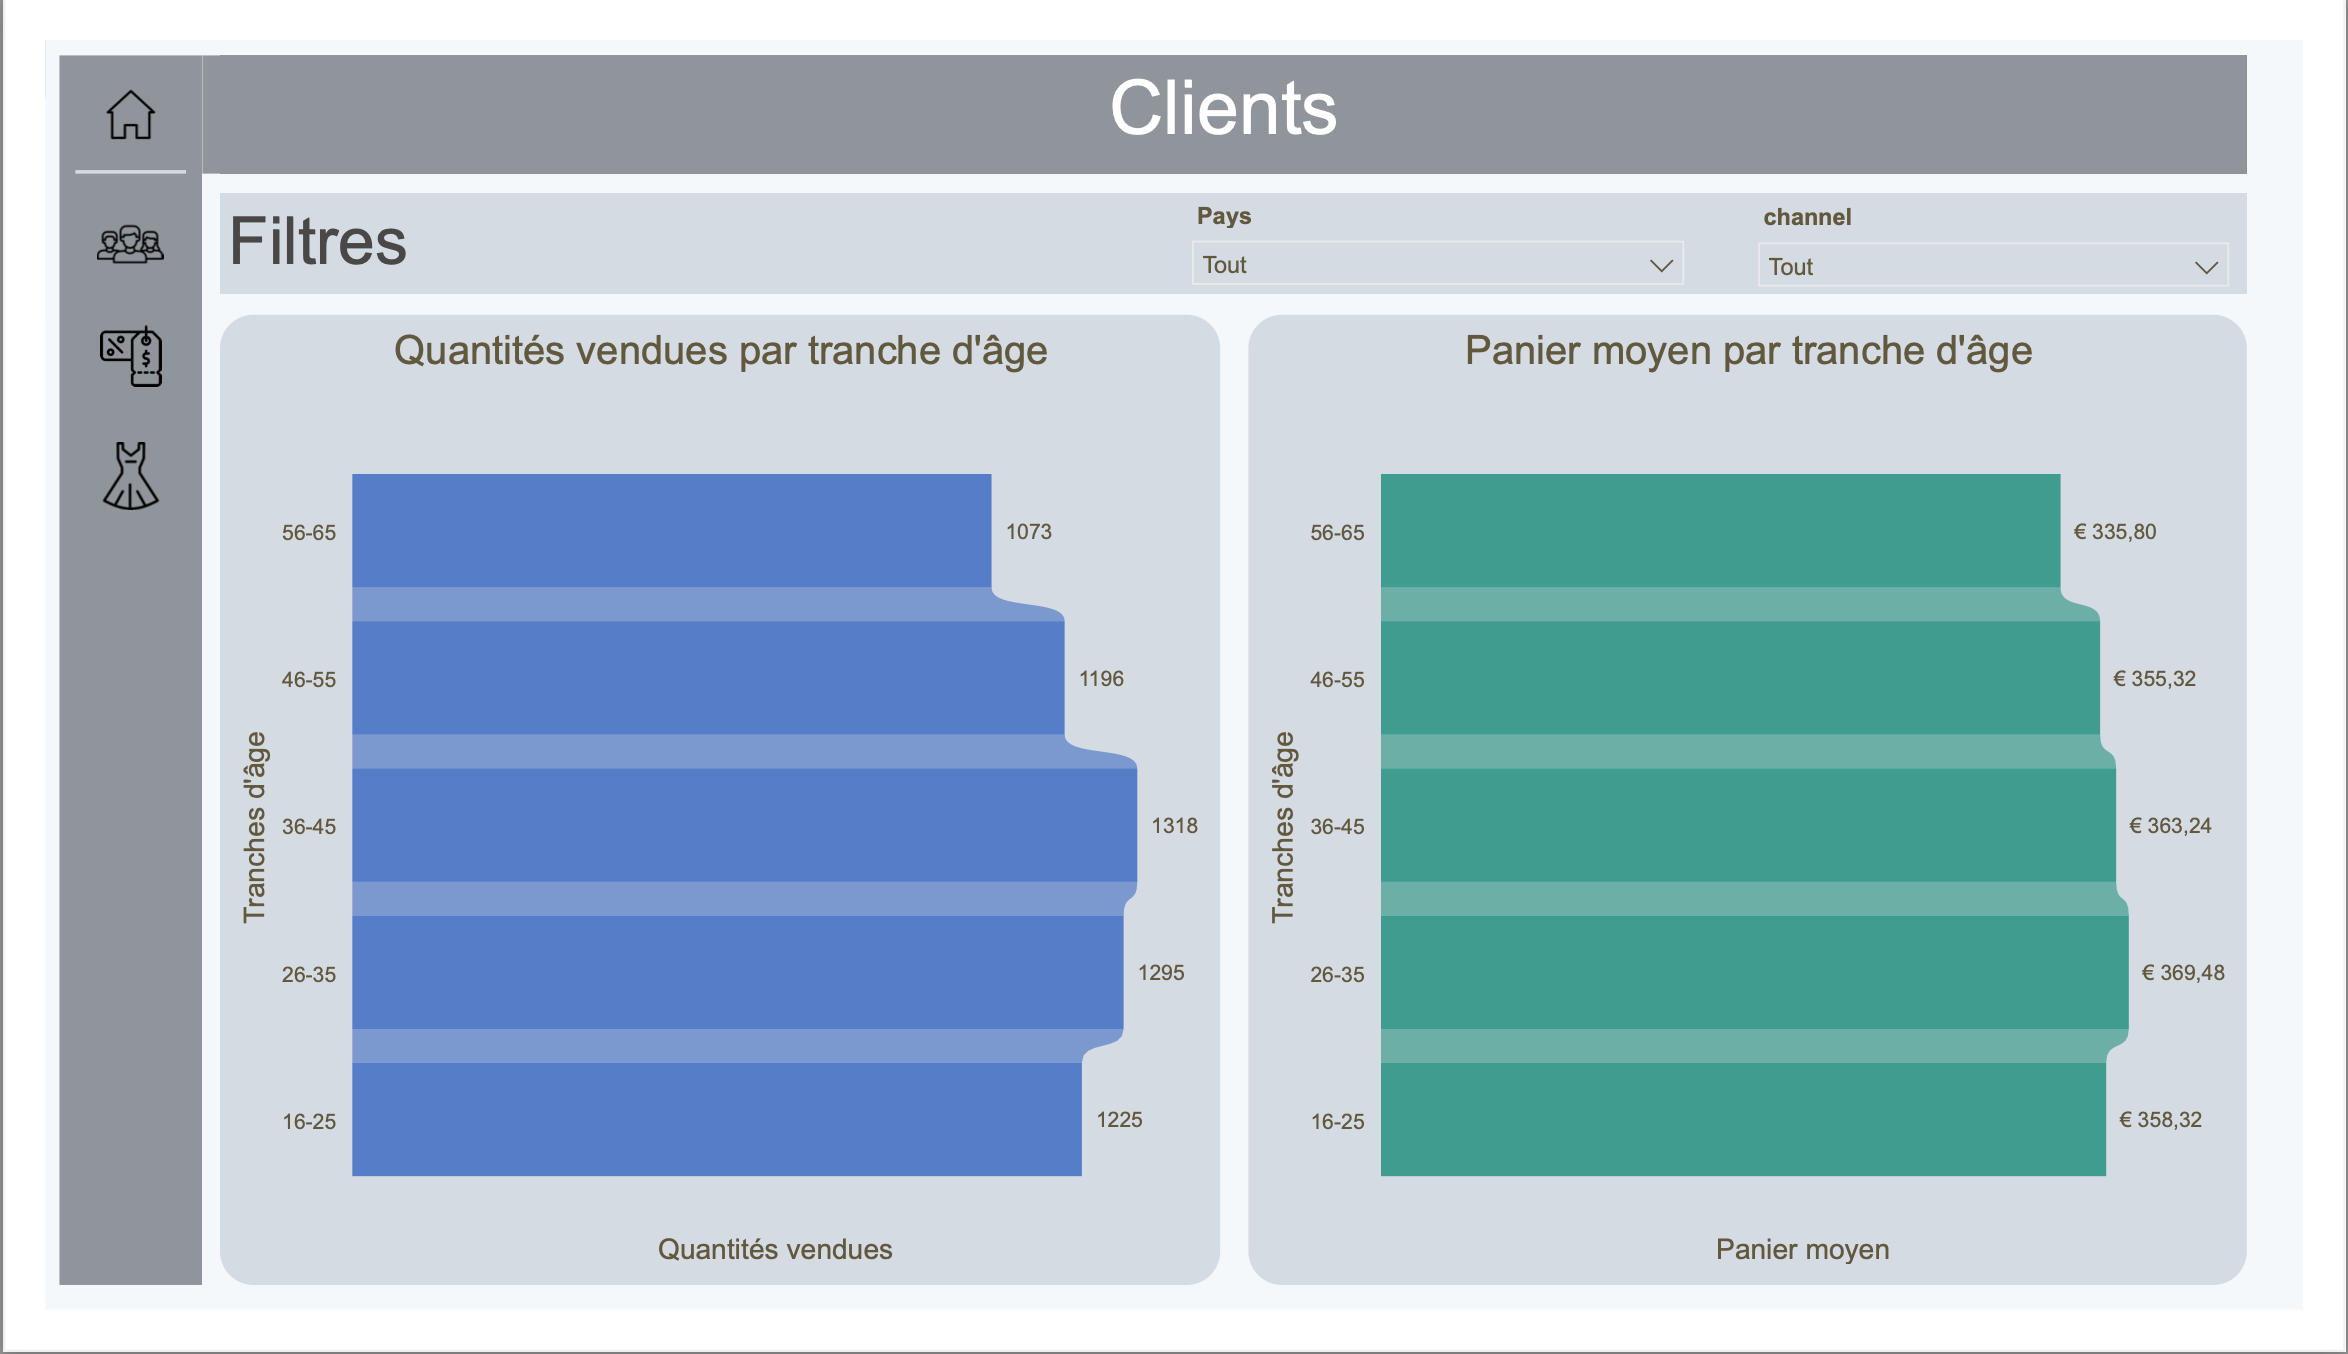

The page's visual inventory and layout, read from the dashboard file:
{"tool":"powerbi","page":{"name":"Clients","canvas":[1280,720],"ordinal":1},"visuals":[{"type":"barChart","title":"Quantités vendues par tranche d''âge","fields":{"Category":["Clients.age_range"],"Y":["Mesures.Total_quantite"]},"box":[99.2,155.6,567.1,550.5],"z":0},{"type":"shape","box":[99,8.9,1149,67.3],"z":1000},{"type":"textbox","box":[89.5,8.7,1158.2,67.1],"z":2000},{"type":"barChart","title":"Panier moyen par tranche d''âge","fields":{"Category":["Clients.age_range"],"Y":["Mesures.Panier_moyen"]},"box":[681.8,155.6,566.1,550.5],"z":3000},{"type":"shape","box":[7.8,8.8,81.7,697.4],"z":4000},{"type":"image","box":[33.1,20.4,31.1,44.7],"z":5000},{"type":"image","box":[29.2,86.6,37.9,57.4],"z":6000},{"type":"image","box":[29.2,162.4,37.9,35],"z":7000},{"type":"image","box":[25.3,227.6,46.7,39.9],"z":8000},{"type":"shape","box":[16.5,63.2,63.2,23.3],"z":9000},{"type":"shape","box":[99.4,87,1148.3,57.2],"z":10000},{"type":"slicer","fields":{"Values":["Ventes.country"]},"box":[640,87,299.5,57.2],"z":11000},{"type":"slicer","fields":{"Values":["Ventes_details.channel"]},"box":[960.6,88.2,287.1,55.9],"z":12000},{"type":"textbox","box":[99.4,88.2,300.7,55.9],"z":13000}]}

Visuals, with their boxes on the page's 1280x720 design canvas (x1, y1, x2, y2). These are canvas units, not pixel positions in the 2348x1354 screenshot, which may show the page scaled, cropped or inside an application window:
"Quantités vendues par tranche d''âge" barChart: box(99, 156, 666, 706)
shape: box(99, 9, 1248, 76)
textbox: box(90, 9, 1248, 76)
"Panier moyen par tranche d''âge" barChart: box(682, 156, 1248, 706)
shape: box(8, 9, 90, 706)
image: box(33, 20, 64, 65)
image: box(29, 87, 67, 144)
image: box(29, 162, 67, 197)
image: box(25, 228, 72, 268)
shape: box(16, 63, 80, 86)
shape: box(99, 87, 1248, 144)
slicer - Ventes.country: box(640, 87, 940, 144)
slicer - Ventes_details.channel: box(961, 88, 1248, 144)
textbox: box(99, 88, 400, 144)
